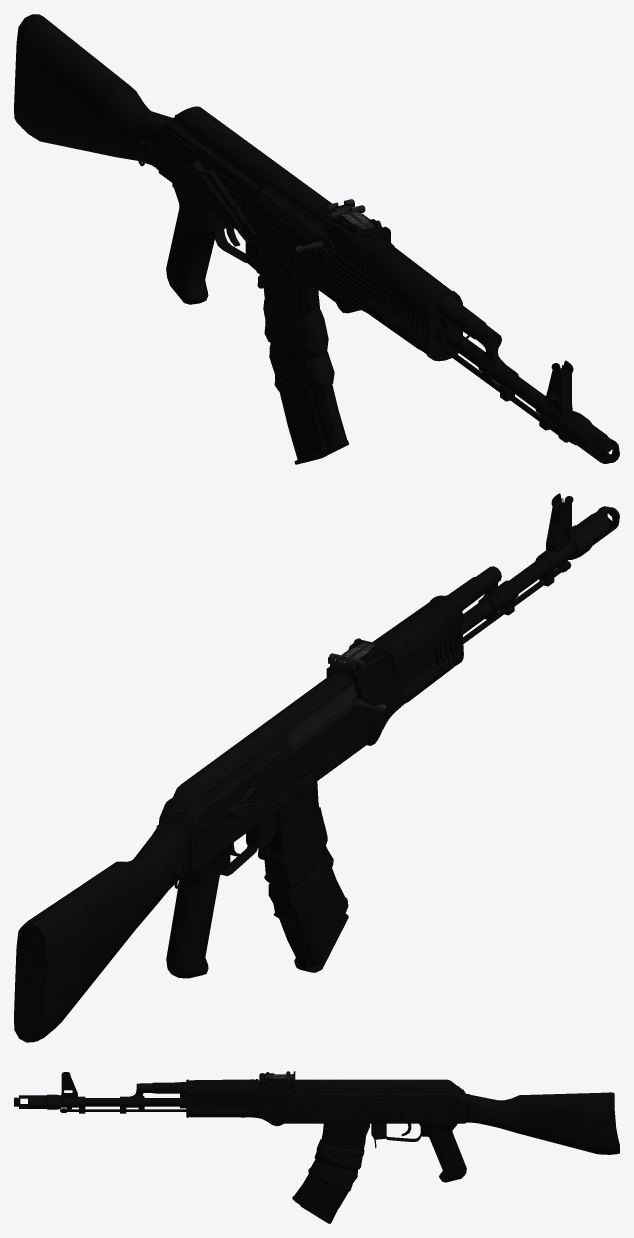
3 renders of one model, top to bottom at view 1: azimuth 30°, elevation 25°; view 2: azimuth 150°, elevation 25°; view 3: azimuth 270°, elevation 25°, orthographic. The views are drawn at different scales.
Visible parts, largest first — view 1: Mesh_0011, Mag, bolt; view 2: Mesh_0011, Mag, bolt; view 3: Mesh_0011, Mag.
Part boxes in pixels (left/top/right/bottom): Mesh_0011: left=14, top=14, right=619, bottom=463; Mag: left=261, top=248, right=348, bottom=464; bolt: left=206, top=149, right=326, bottom=252; Mesh_0011: left=14, top=493, right=619, bottom=1042; Mag: left=264, top=781, right=348, bottom=972; bolt: left=242, top=681, right=386, bottom=790; Mesh_0011: left=14, top=1071, right=619, bottom=1182; Mag: left=292, top=1123, right=369, bottom=1223.
Size of the model in its own units: 6.5 by 25.43 by 94.08.
